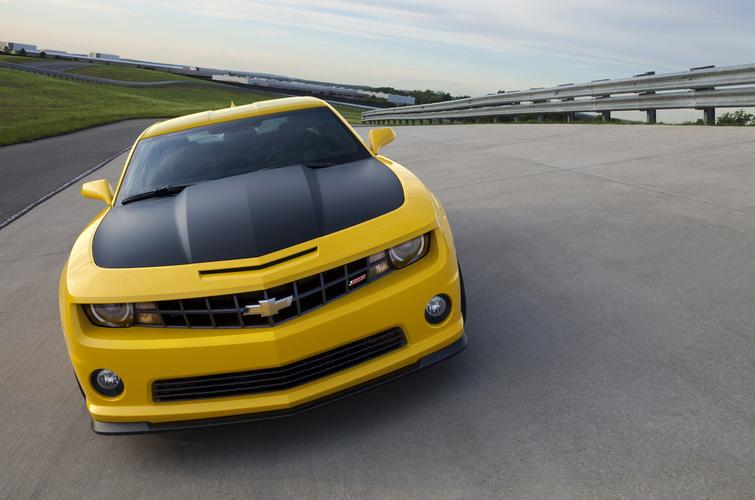汽车: (56, 95, 493, 445)
